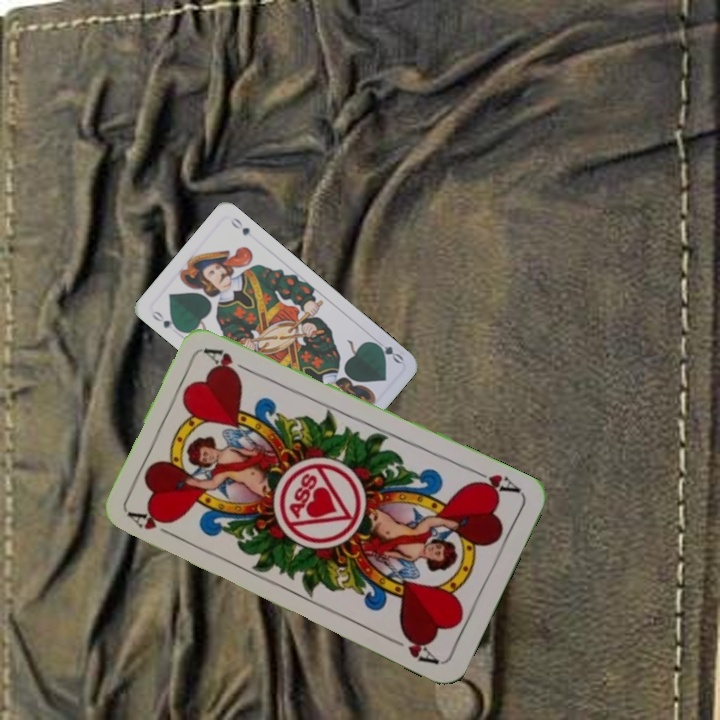GO: (369, 338, 406, 366), (147, 307, 183, 334)
HA: (125, 506, 181, 541), (466, 464, 523, 498)
